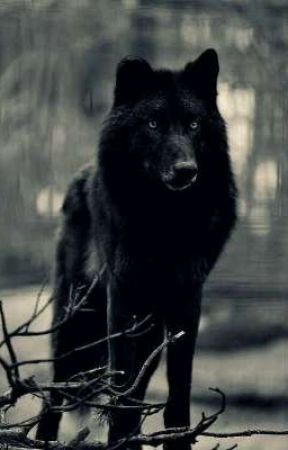Lobo: (44, 25, 253, 409)
